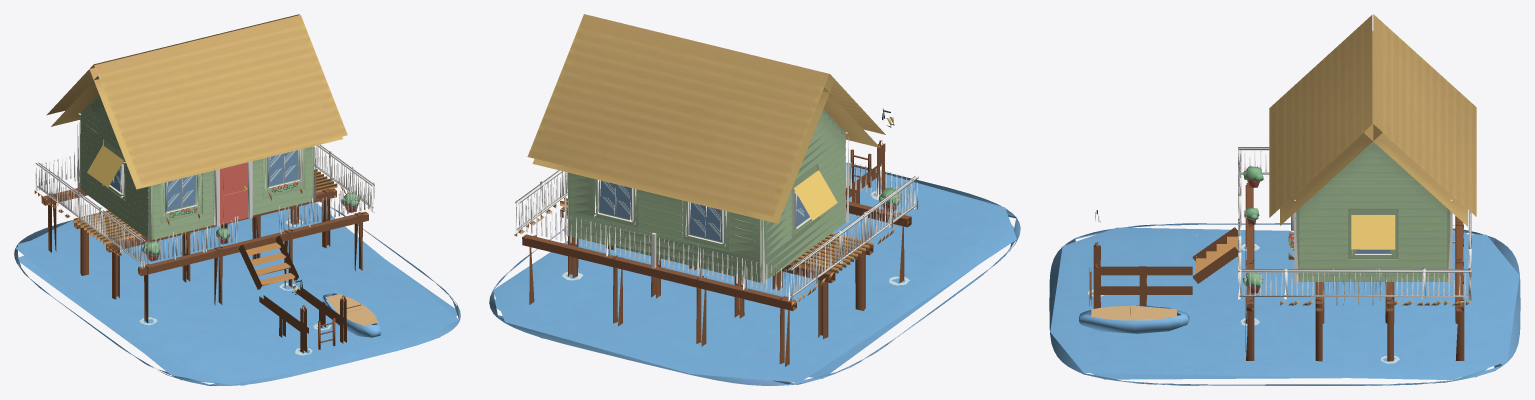
The model's file is rumah_simplify.glb.
3 renders of one model, left to right at view 1: azimuth 30°, elevation 25°; view 2: azimuth 150°, elevation 25°; view 3: azimuth 270°, elevation 25°, orthographic. The views are drawn at different scales.
Parts seen in each view (by area): view 1: stilt-house_body, stilt-house_details, stilt-house_door_l, stilt-house_frame, stilt-house_plants, stilt-house_glints; view 2: stilt-house_body, stilt-house_details, stilt-house_glints; view 3: stilt-house_body, stilt-house_details, stilt-house_plants.
Boxes of the visible parts, box(x1,y1,x2,y2) form: stilt-house_body: box(14, 14, 460, 385); stilt-house_details: box(34, 113, 381, 355); stilt-house_door_l: box(220, 162, 247, 224); stilt-house_frame: box(214, 161, 252, 226); stilt-house_plants: box(142, 192, 359, 255); stilt-house_glints: box(112, 150, 296, 206); stilt-house_body: box(489, 14, 1020, 385); stilt-house_details: box(514, 108, 919, 366); stilt-house_glints: box(602, 181, 804, 236); stilt-house_body: box(1049, 14, 1520, 385); stilt-house_details: box(1079, 147, 1471, 363); stilt-house_plants: box(1242, 165, 1263, 287).
Size of the model in its own units: 10.39 by 7.09 by 12.8.
21 materials, 1 textured.
